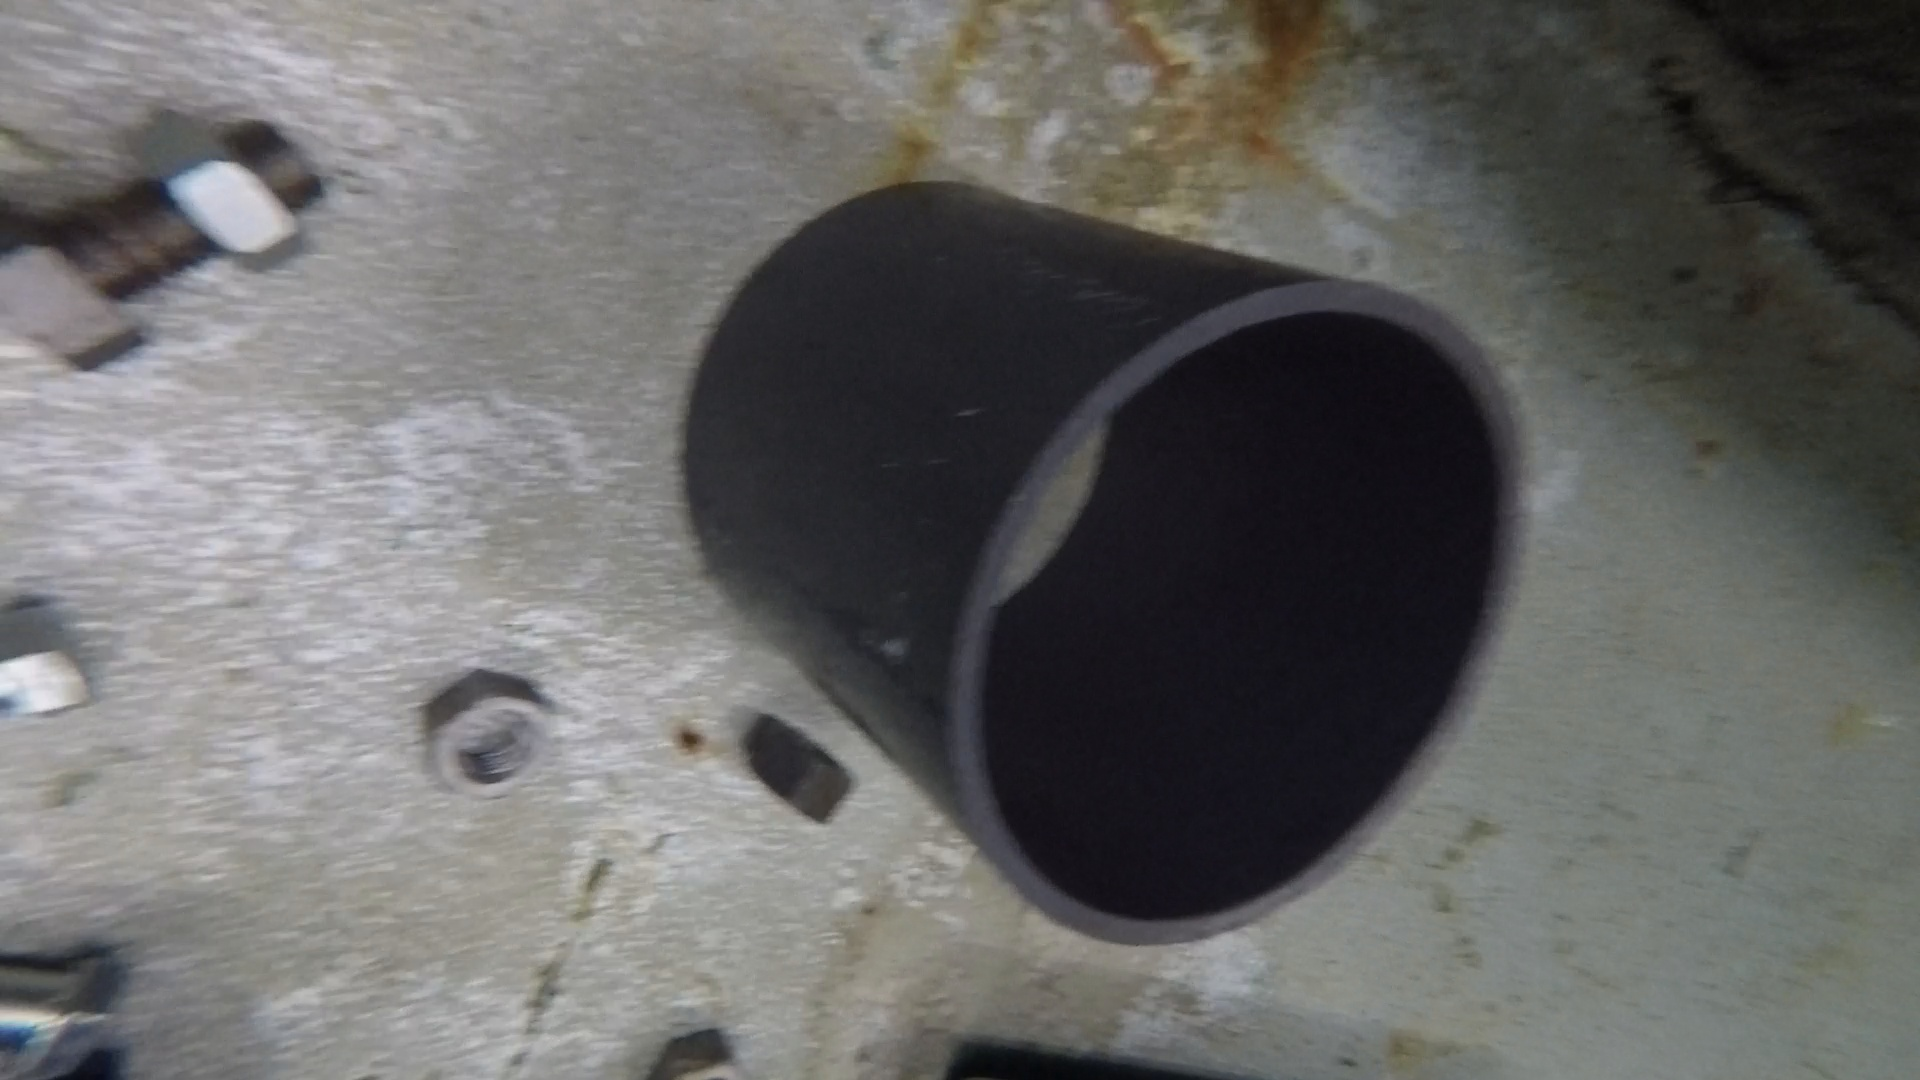bolt: (1, 117, 320, 376), (1, 945, 125, 1073), (1, 601, 100, 717)
nut: (128, 109, 313, 281), (425, 669, 554, 804), (742, 709, 856, 829), (647, 1025, 740, 1080)
pipe: (683, 181, 1534, 942)
